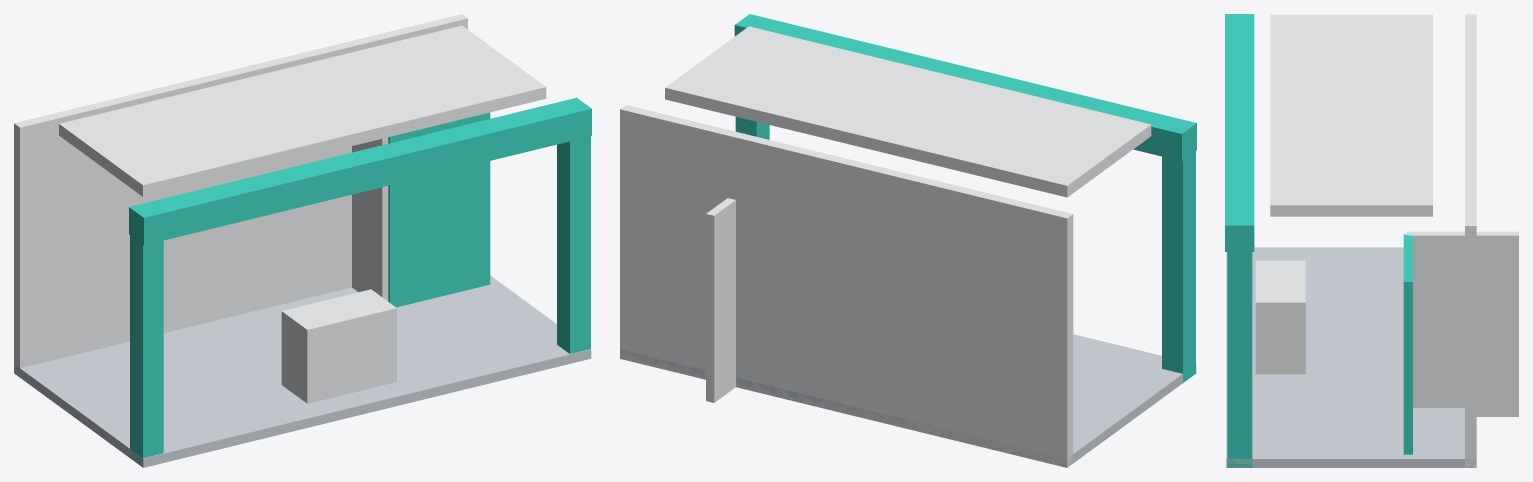
The picture shows the model from 3 angles, left to right: view 1: azimuth 30°, elevation 25°; view 2: azimuth 150°, elevation 25°; view 3: azimuth 270°, elevation 25°; orthographic projection. The views are drawn at different scales.
Parts seen in each view (by area): view 1: Exhibition Booth Concept; view 2: Exhibition Booth Concept; view 3: Exhibition Booth Concept.
Part boxes in pixels (x1=…): Exhibition Booth Concept: x1=14, y1=14, x2=591, y2=467; Exhibition Booth Concept: x1=620, y1=14, x2=1196, y2=467; Exhibition Booth Concept: x1=1225, y1=14, x2=1518, y2=467.
Bounding box in the file's own units: 6 × 3.34 × 3.52.
